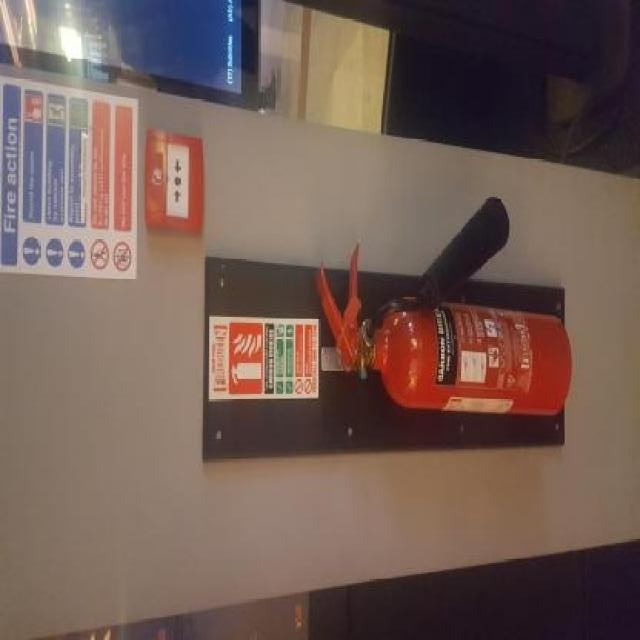fire extinguisher: (310, 194, 576, 441)
